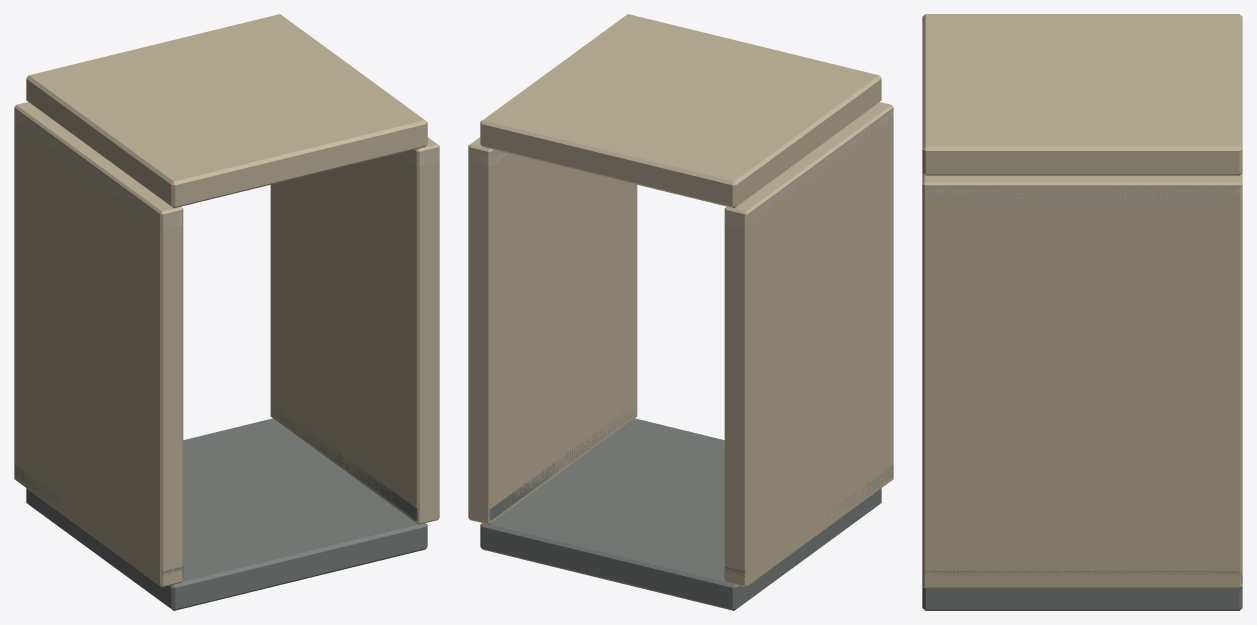
Rendered from architecture-corridor.lod0.glb.
3 renders of one model, left to right at view 1: azimuth 30°, elevation 25°; view 2: azimuth 150°, elevation 25°; view 3: azimuth 270°, elevation 25°, orthographic. The views are drawn at different scales.
Parts seen in each view (by area): view 1: architecture-corridor__body; view 2: architecture-corridor__body; view 3: architecture-corridor__body.
Boxes of the visible parts, box(x1,y1,x2,y2) form: architecture-corridor__body: box(14, 14, 439, 610); architecture-corridor__body: box(468, 14, 893, 610); architecture-corridor__body: box(922, 14, 1242, 610).
Bounding box in the file's own units: 2.18 × 3.2 × 2.
